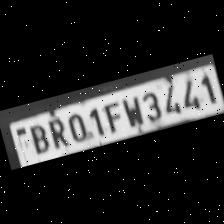0: (64, 109, 92, 146)
1: (82, 104, 108, 140), (194, 72, 219, 108)
3: (137, 88, 164, 124)
4: (172, 76, 202, 114), (157, 81, 183, 118)
B: (23, 120, 52, 158)
F: (98, 99, 124, 136)
R: (43, 114, 70, 152)
W: (117, 92, 146, 130)
